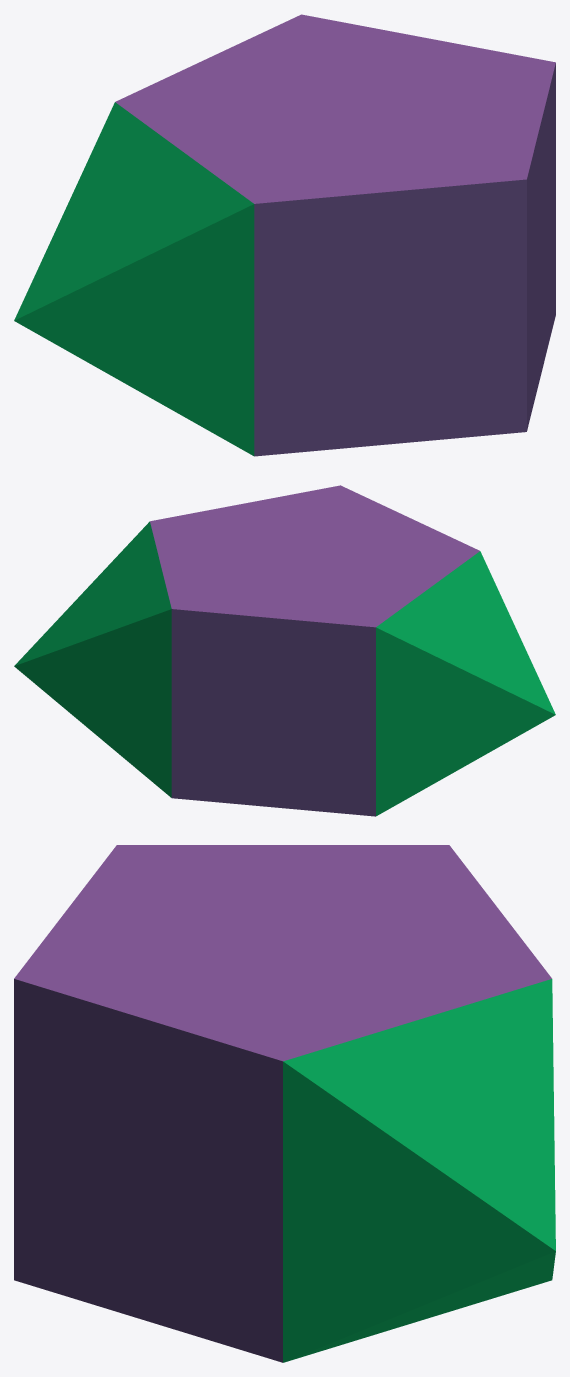
The model's file is J53.PrismaPentagonalBiaumentado.gltf.
3 views of the same model, one above another, from view 1: azimuth 30°, elevation 25°; view 2: azimuth 150°, elevation 25°; view 3: azimuth 270°, elevation 25° (orthographic). The views are drawn at different scales.
Parts seen in each view (by area): view 1: J53.PrismaPentagonalBiaumentado; view 2: J53.PrismaPentagonalBiaumentado; view 3: J53.PrismaPentagonalBiaumentado.
Boxes of the visible parts, left/top/right/bottom form: J53.PrismaPentagonalBiaumentado: left=14, top=14, right=555, bottom=456; J53.PrismaPentagonalBiaumentado: left=14, top=485, right=555, bottom=816; J53.PrismaPentagonalBiaumentado: left=14, top=845, right=555, bottom=1362.
Bounding box in the file's own units: 18.09 × 7.17 × 11.68.
